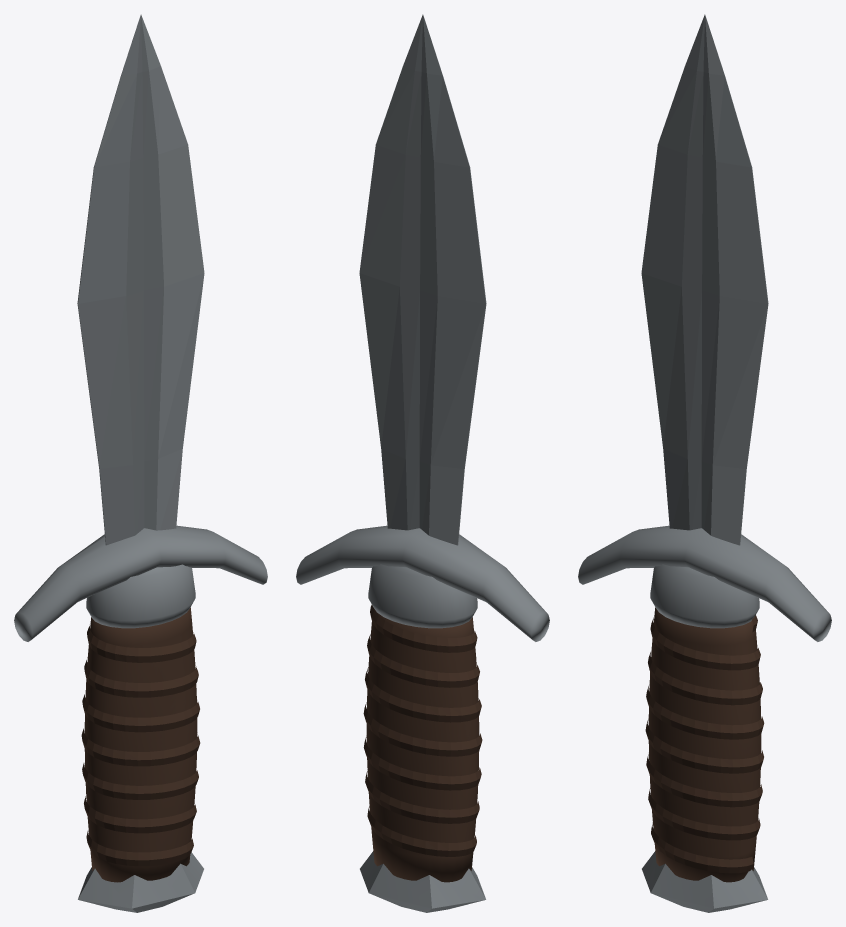
Rendered from corealm_dagger_2.glb.
The picture shows the model from 3 angles, left to right: view 1: azimuth 30°, elevation 25°; view 2: azimuth 150°, elevation 25°; view 3: azimuth 330°, elevation 25°; orthographic projection.
Visible parts, largest first — view 1: equipment-dagger-blade, equipment-dagger-leather, equipment-dagger-metal; view 2: equipment-dagger-blade, equipment-dagger-leather, equipment-dagger-metal; view 3: equipment-dagger-blade, equipment-dagger-leather, equipment-dagger-metal.
Boxes of the visible parts, x1,y1,x2,y2 form: equipment-dagger-blade: (77, 14, 204, 545); equipment-dagger-leather: (81, 607, 200, 882); equipment-dagger-metal: (14, 525, 267, 912); equipment-dagger-blade: (359, 14, 486, 545); equipment-dagger-leather: (363, 604, 482, 882); equipment-dagger-metal: (296, 525, 549, 912); equipment-dagger-blade: (641, 14, 768, 545); equipment-dagger-leather: (645, 607, 764, 882); equipment-dagger-metal: (578, 525, 831, 912).
Size of the model in its own units: 0.13 by 0.47 by 0.0446.
